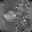people: (4, 11, 17, 22)
